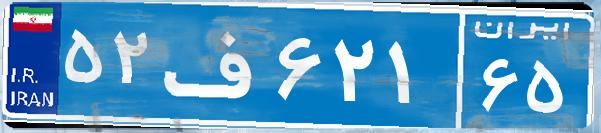1: (385, 28, 445, 110)
2: (330, 28, 385, 110), (110, 28, 158, 105)
5: (57, 26, 110, 107), (525, 38, 570, 115)
6: (273, 28, 330, 110), (475, 38, 525, 113)
ف: (158, 15, 273, 115)
